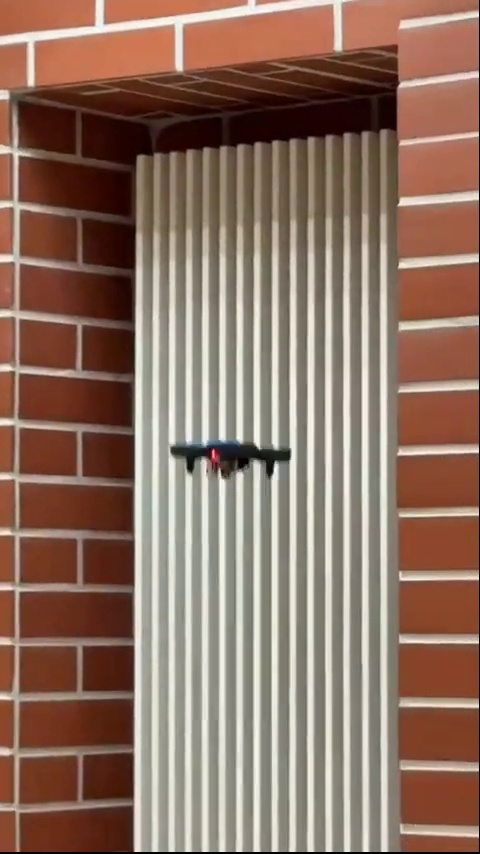drone: (165, 436, 293, 486)
